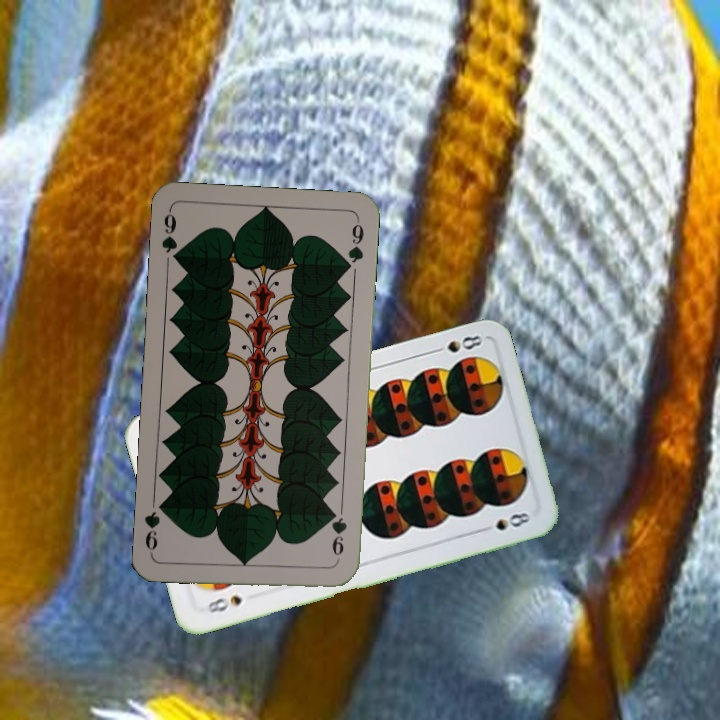G9: (157, 206, 183, 266), (327, 506, 350, 558)
S8: (427, 331, 485, 357), (204, 591, 245, 616)
